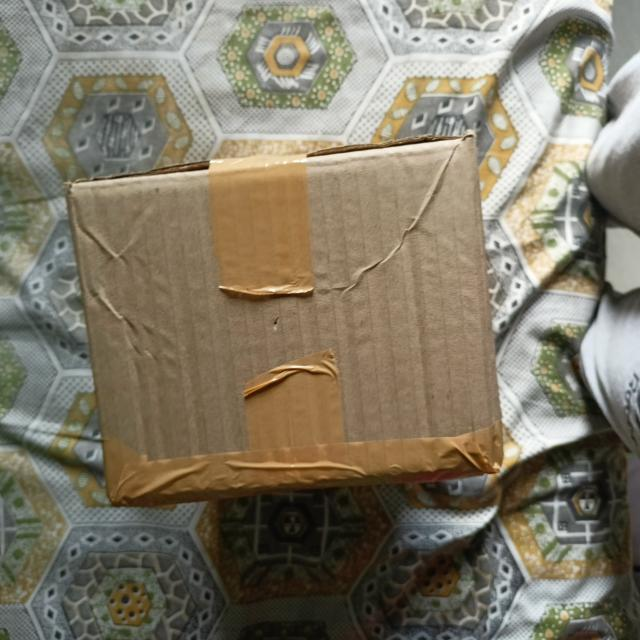box: (71, 136, 499, 505)
